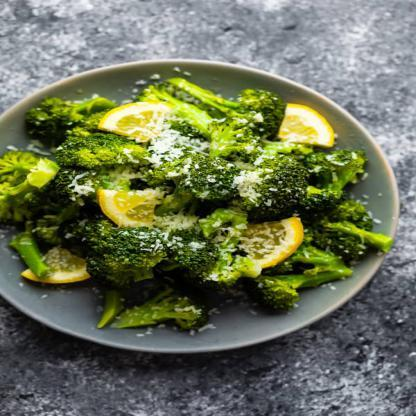broccoli: (0, 68, 395, 335)
